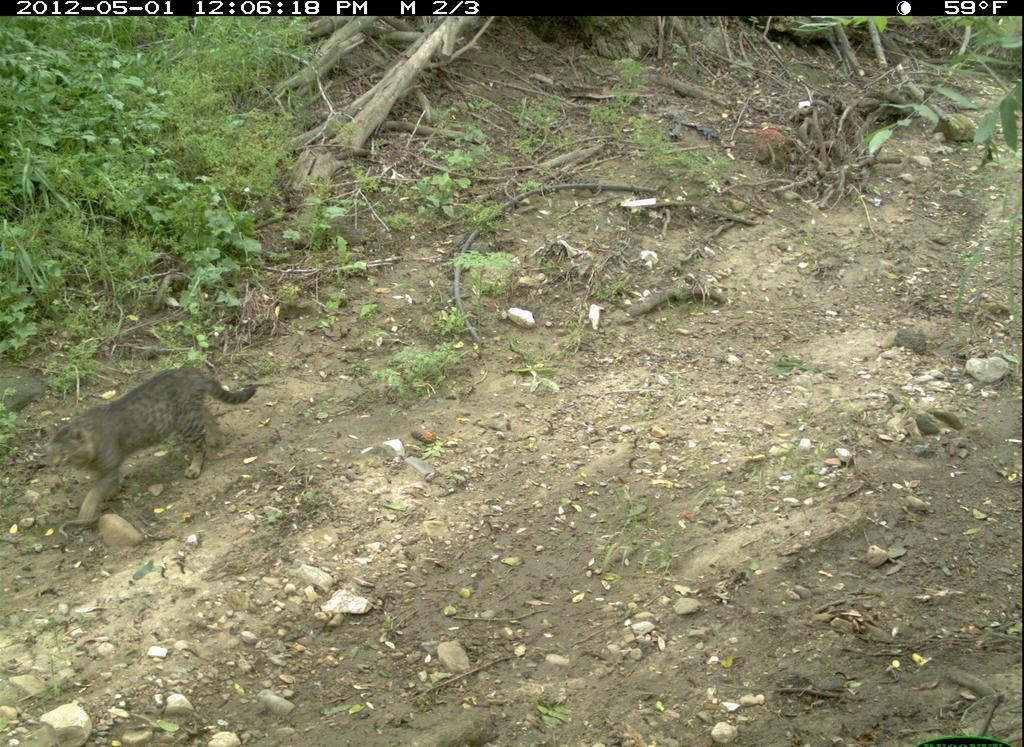cat: (40, 363, 263, 527)
